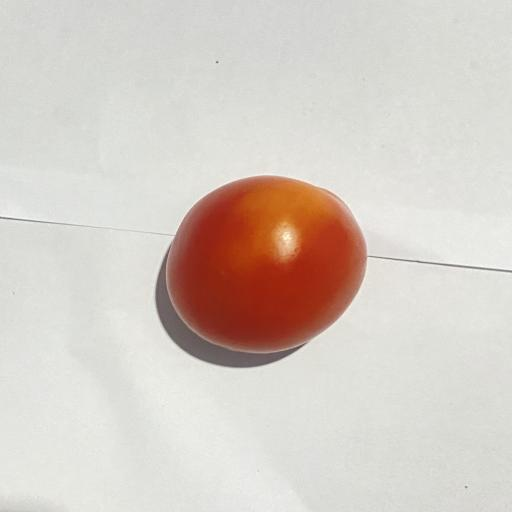ripe: (166, 176, 367, 353)
